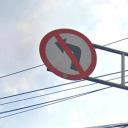NoVirarEsquerda: (35, 25, 101, 86)
